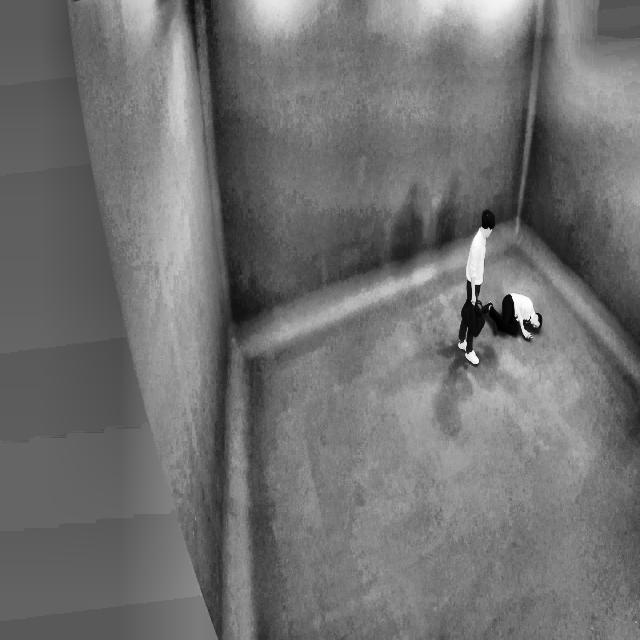assult: (458, 202, 551, 384), (475, 289, 544, 341)
